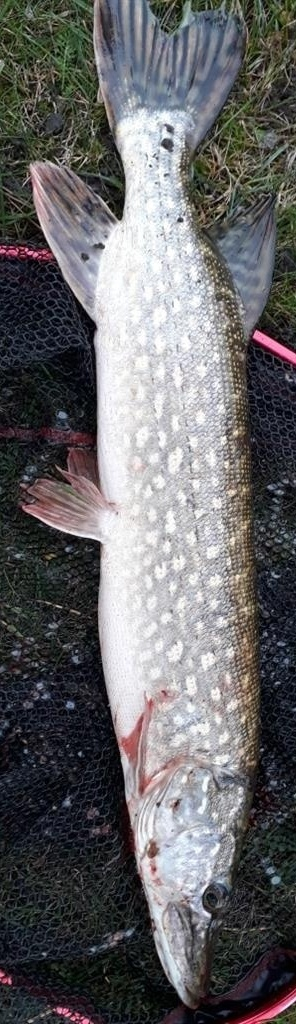Esox lucius: (20, 1, 276, 1009)
